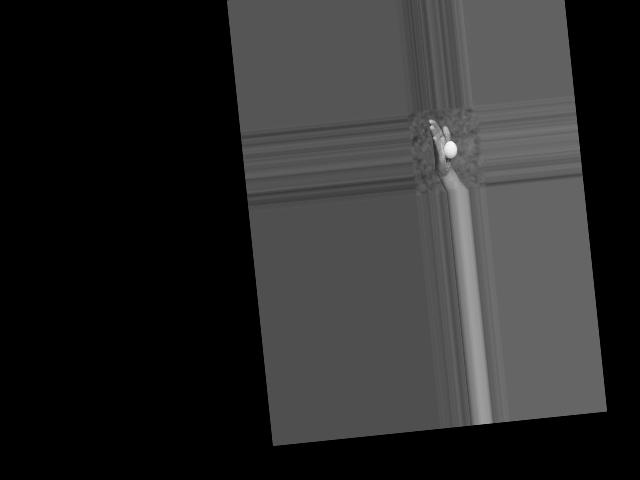egg: (442, 140, 458, 159)
